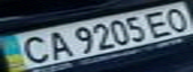0: (109, 16, 133, 46)
2: (90, 20, 115, 51)
5: (124, 12, 151, 43)
9: (69, 24, 97, 55)
A: (39, 28, 75, 61)
C: (9, 33, 54, 65)
E: (139, 8, 178, 38)
O: (157, 4, 193, 33)
